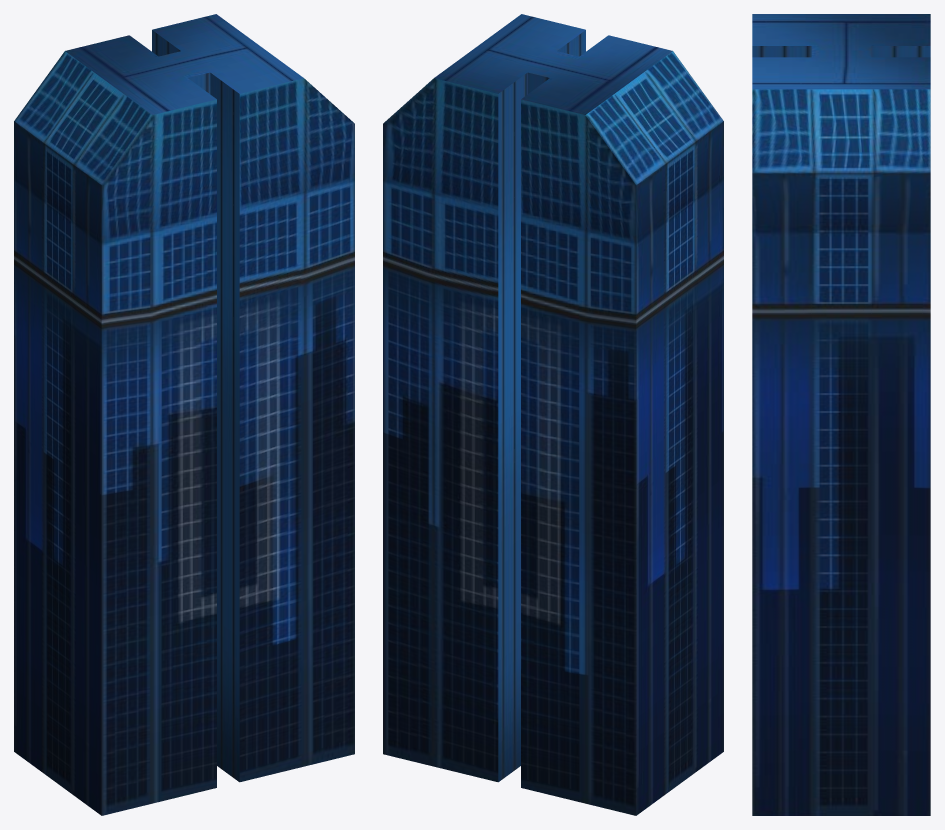
Rendered from House_14.FBX.
The picture shows the model from 3 angles, left to right: view 1: azimuth 30°, elevation 25°; view 2: azimuth 150°, elevation 25°; view 3: azimuth 270°, elevation 25°; orthographic projection.
Parts seen in each view (by area): view 1: House_14; view 2: House_14; view 3: House_14.
Part boxes in pixels (left/top/right/bottom): House_14: left=14, top=14, right=354, bottom=815; House_14: left=383, top=14, right=723, bottom=815; House_14: left=752, top=14, right=930, bottom=815.
Size of the model in its own units: 50 by 130 by 30.
1 material, 1 textured.
